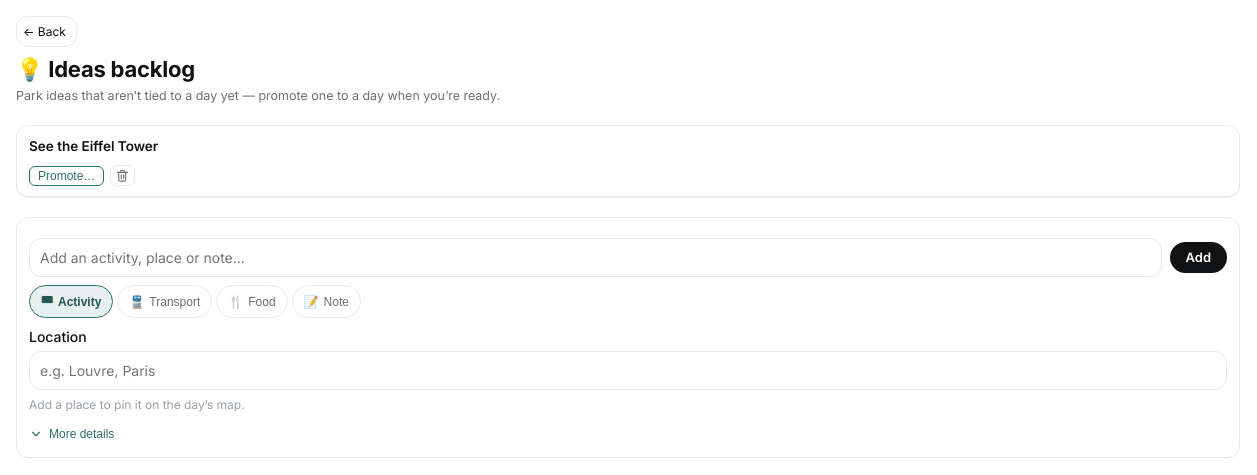
Scenario: BacklogPage › delete › deletes an idea after confirming and removes it from the list
The width and height of the screenshot is (1257, 475).
expect the text "See the Eiffel Tower" is shown: met, box [29,136,158,157]
Click the button named "Delete See the Eiffel Tower": (123, 176) [110,165,135,186]
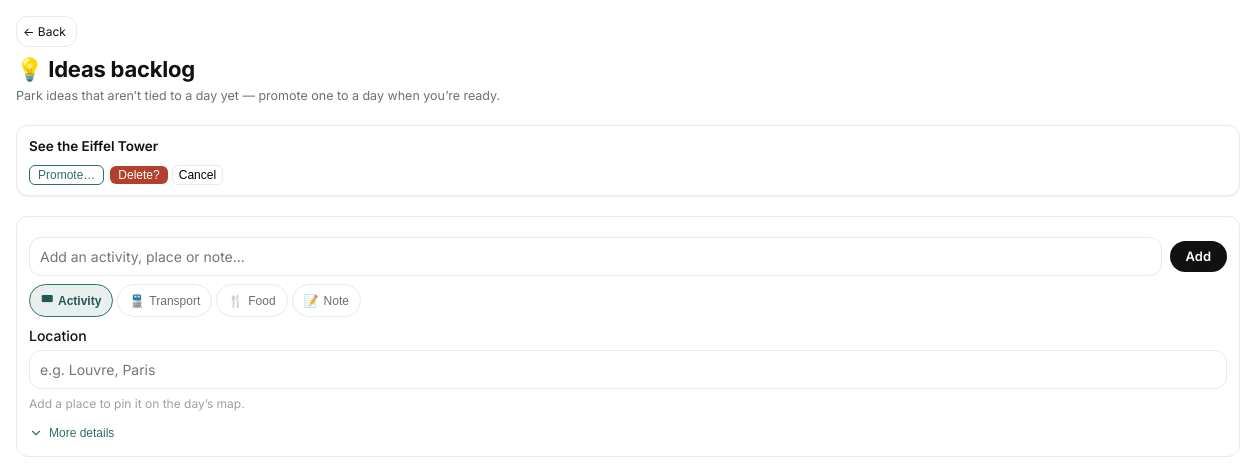
Click the button with aria-label "Confirm delete See the Eiffel Tower": (139, 175) [110,166,168,184]
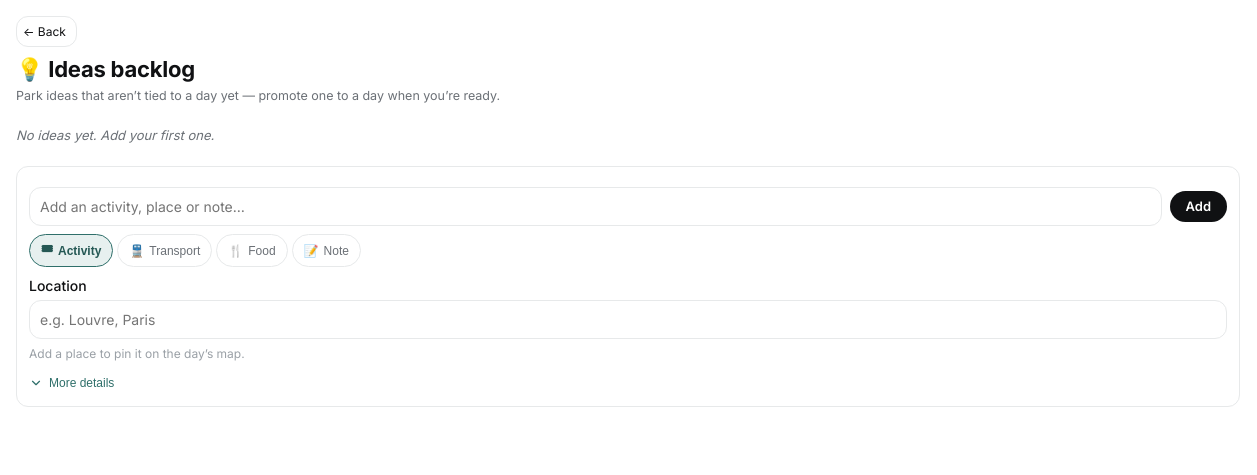
expect the button "See the Eiffel Tower" is gone: met
